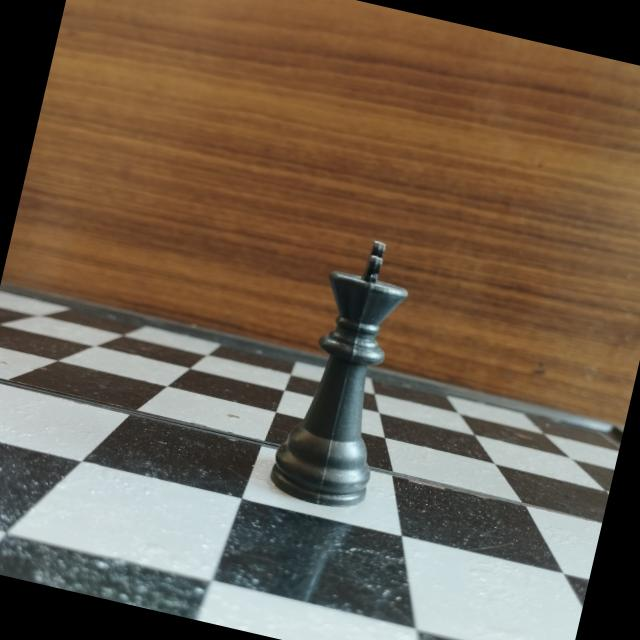Black King: (260, 217, 438, 520)
